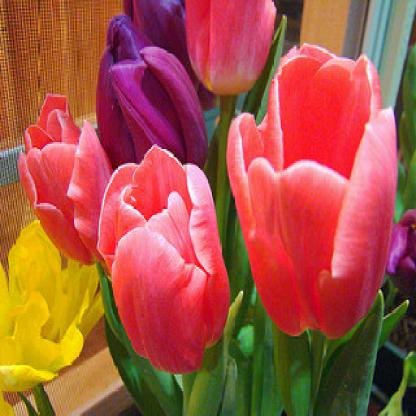TULIP: (39, 17, 395, 377)
